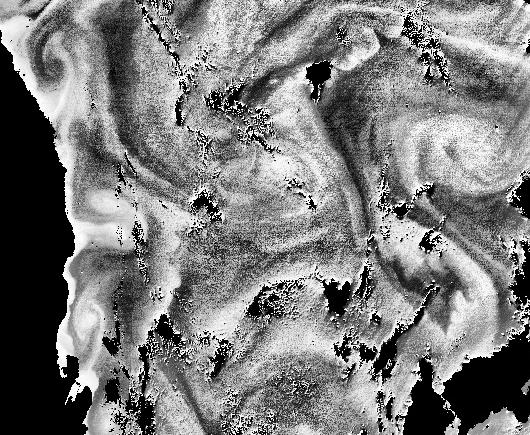AE: (398, 108, 521, 201)
CE: (16, 19, 83, 104), (86, 184, 143, 225), (70, 295, 107, 344)
